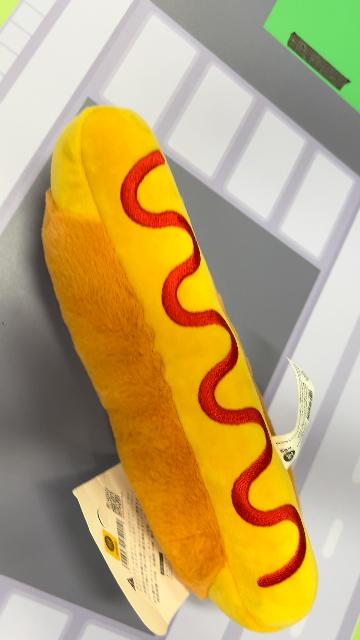hotdog: (40, 104, 320, 634)
